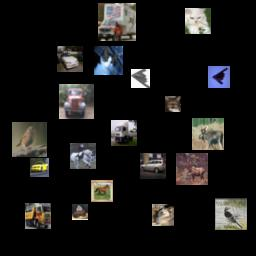airplane: (208, 66, 230, 88), (131, 69, 150, 88)
automobile: (140, 153, 166, 179), (57, 46, 83, 72), (30, 158, 49, 177)
bird: (12, 122, 47, 157), (215, 198, 247, 230)
cat: (94, 46, 123, 75), (185, 8, 211, 34), (72, 204, 88, 220), (165, 96, 181, 112)
deer: (176, 153, 208, 185), (192, 118, 224, 150)
dog: (152, 204, 174, 226)
truck: (98, 3, 136, 41), (59, 84, 94, 119), (111, 120, 137, 146), (25, 203, 51, 229)
